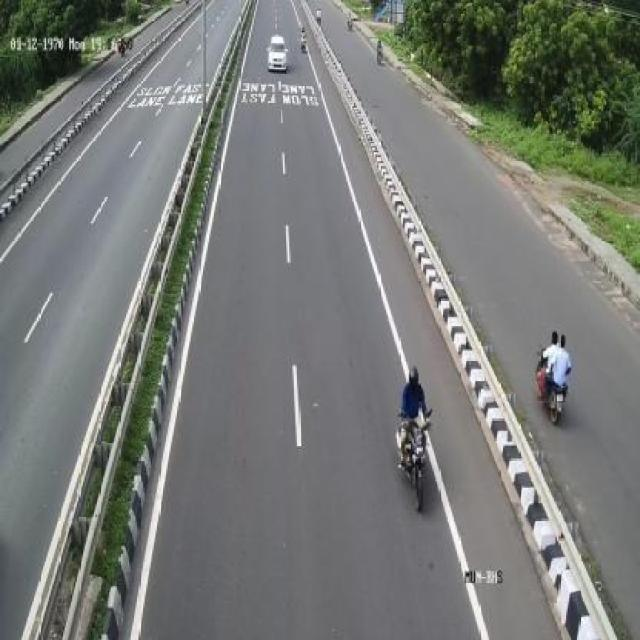car: (266, 31, 291, 75)
